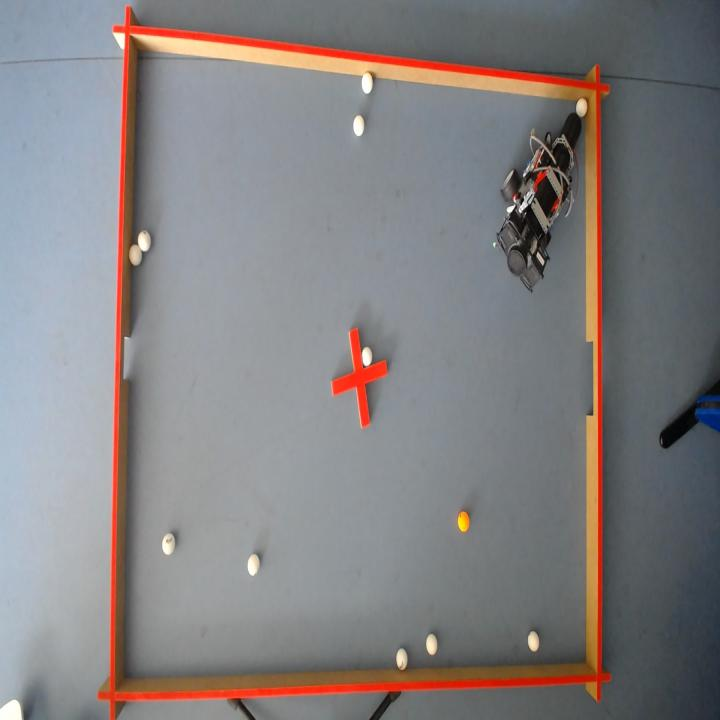orange: (458, 511, 470, 532)
robot: (497, 113, 583, 289)
white: (161, 533, 175, 555), (247, 554, 260, 576), (137, 230, 150, 251), (128, 243, 141, 264), (426, 634, 438, 656), (362, 70, 373, 92), (397, 649, 408, 671), (577, 96, 589, 116), (528, 631, 540, 651), (353, 114, 364, 135), (362, 346, 372, 366)
